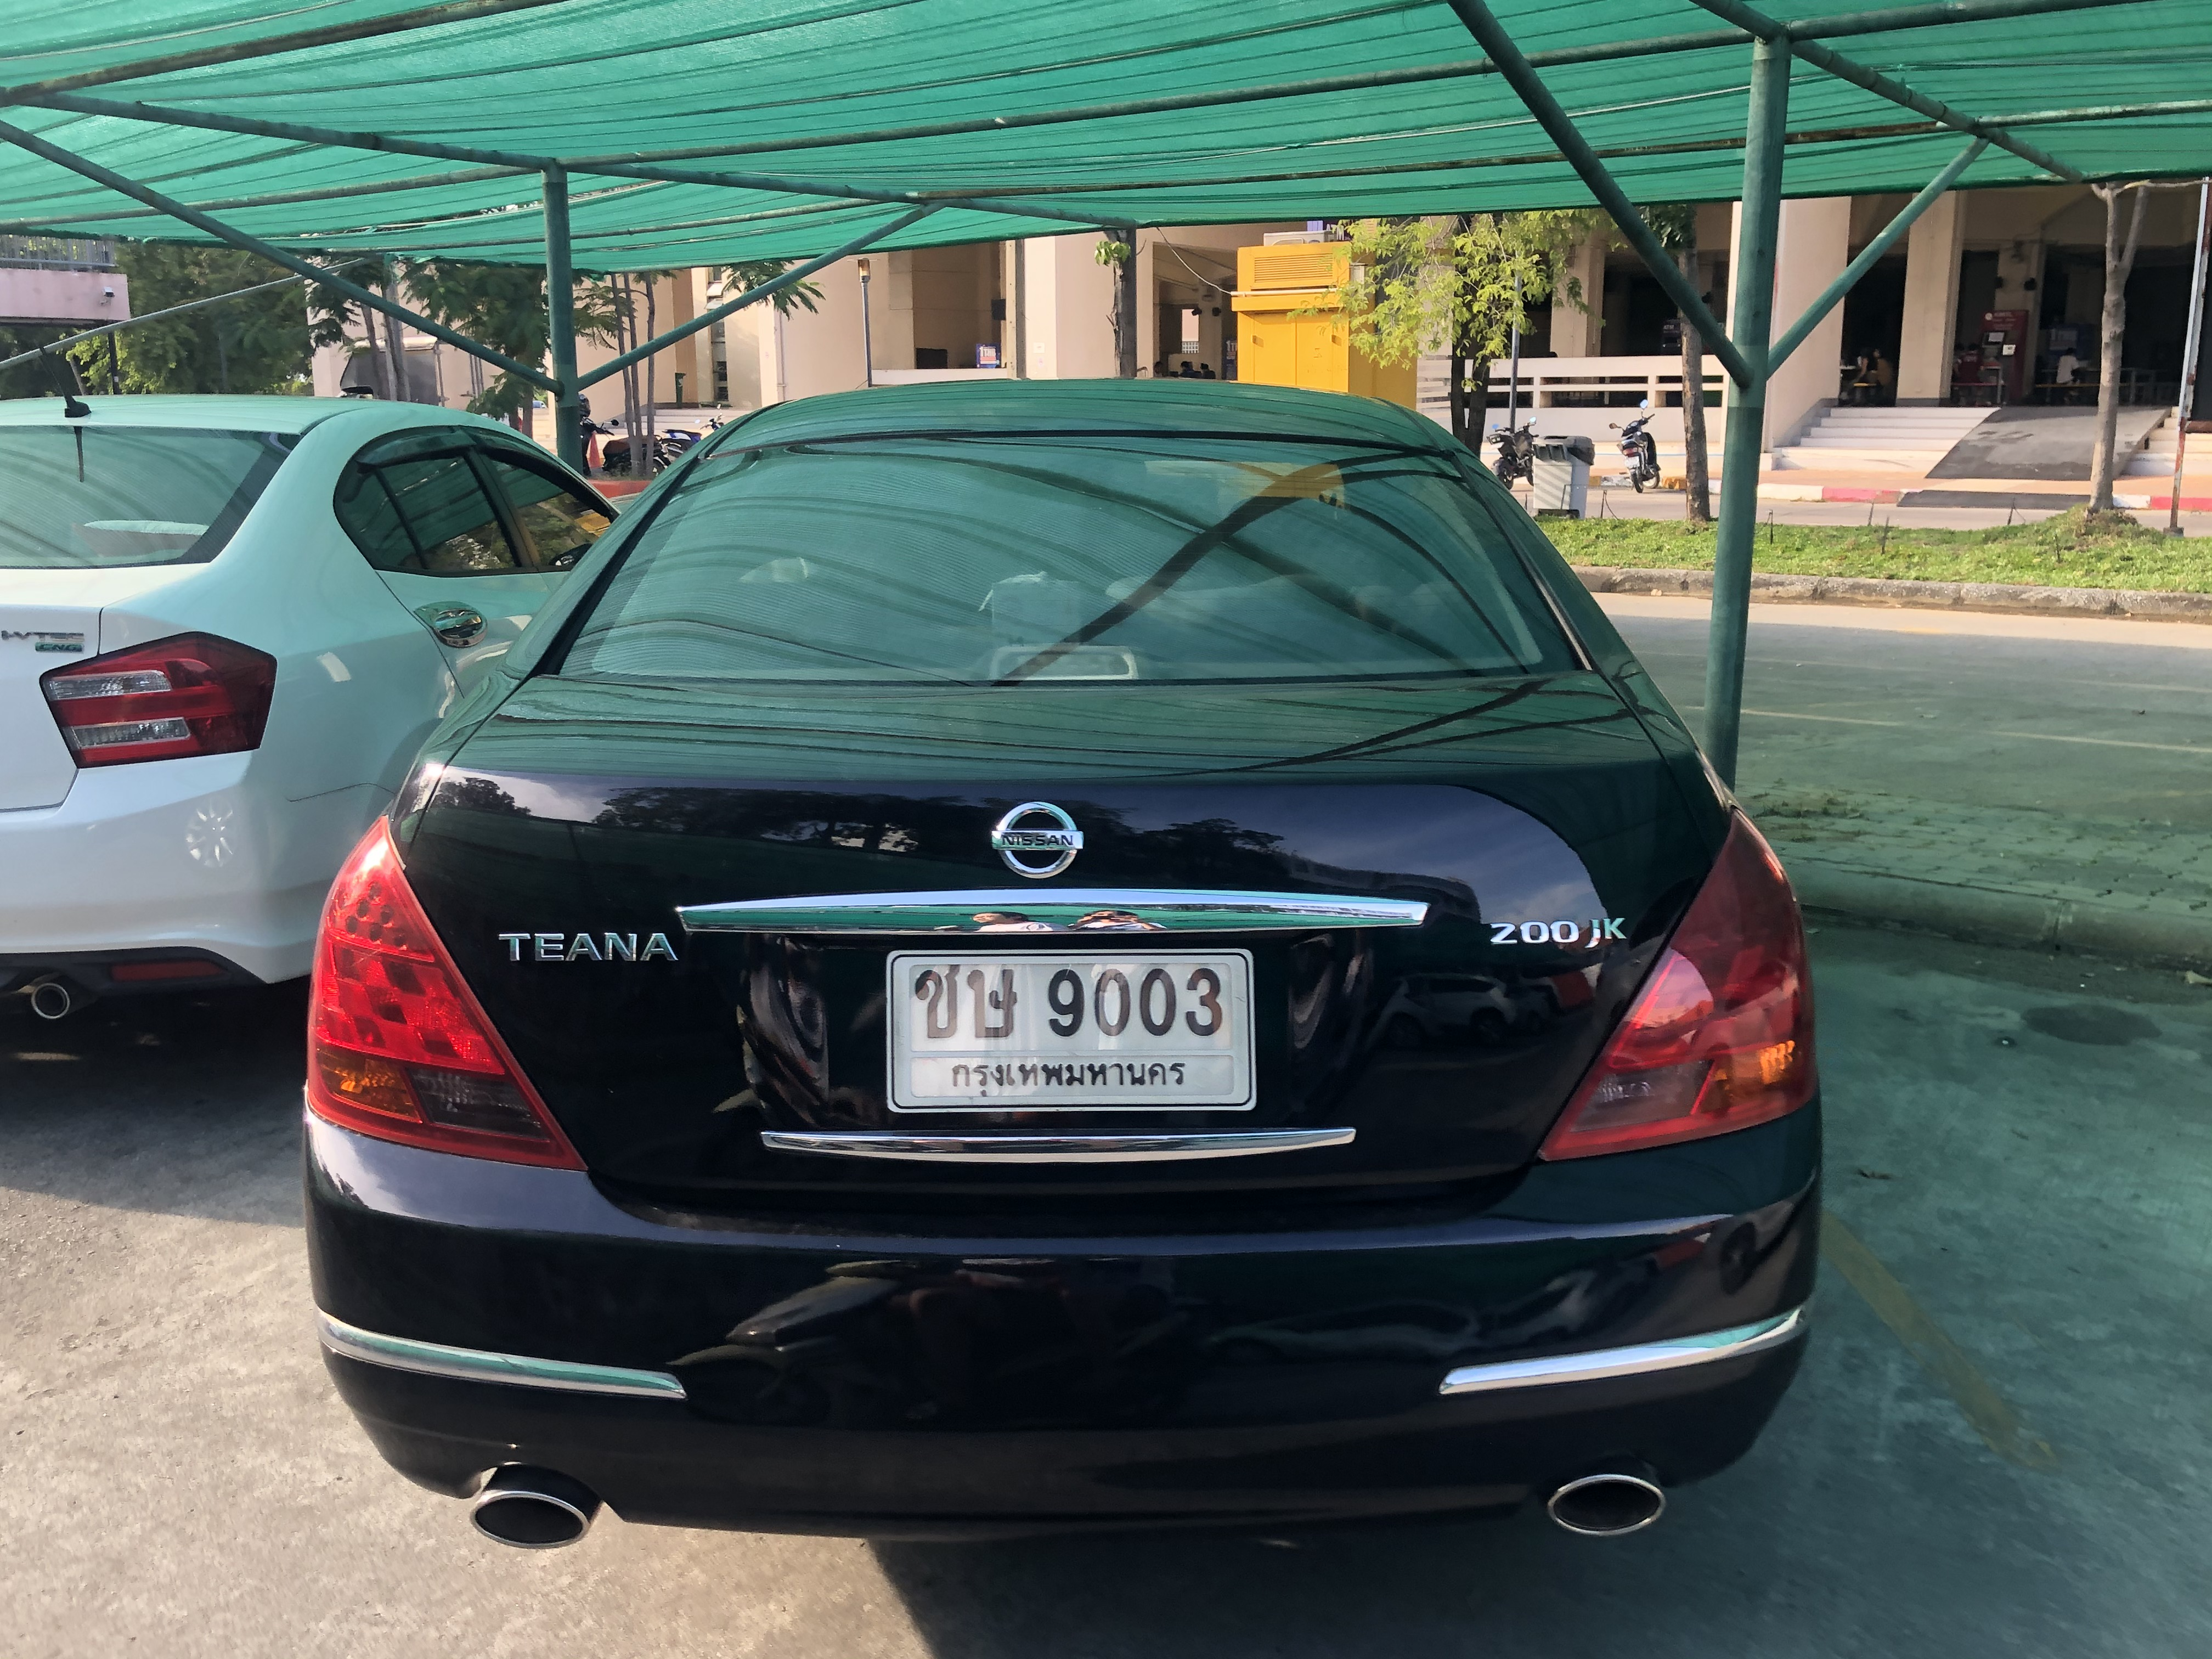in: (911, 964, 1238, 1098)
out: (887, 946, 1258, 1114)
